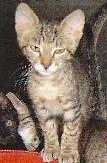Cat: (15, 3, 84, 75)
